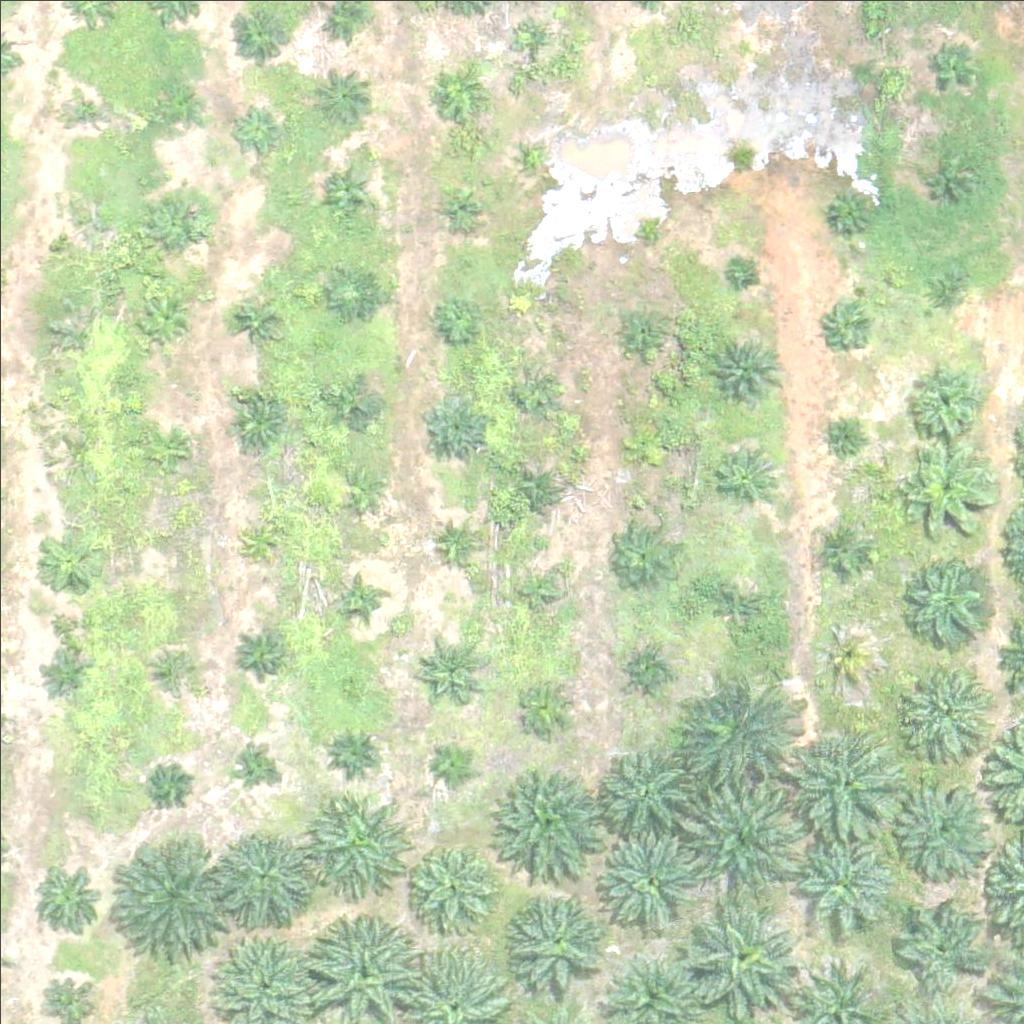Kelapa_Sawit: (680, 778, 805, 904), (672, 667, 797, 793), (102, 829, 227, 954), (493, 759, 606, 873), (784, 722, 897, 835), (593, 829, 705, 943), (683, 909, 795, 1023), (305, 778, 417, 891), (216, 829, 316, 930), (402, 835, 502, 936), (793, 833, 893, 934), (889, 887, 989, 988), (894, 778, 994, 879), (896, 443, 996, 544), (509, 891, 609, 991), (895, 661, 983, 750), (901, 355, 989, 443), (599, 744, 687, 832), (902, 566, 989, 654), (708, 331, 783, 407), (28, 863, 103, 938), (307, 63, 370, 126), (422, 630, 485, 693), (516, 676, 579, 739), (149, 192, 212, 255), (420, 394, 483, 457), (505, 559, 568, 622), (613, 521, 675, 584), (713, 442, 775, 505), (226, 390, 288, 453), (132, 289, 194, 352), (36, 529, 98, 592), (709, 572, 771, 635), (326, 267, 376, 318), (328, 385, 378, 436), (508, 463, 558, 514), (39, 970, 89, 1021), (432, 520, 482, 571), (507, 369, 557, 420), (628, 642, 678, 693), (619, 423, 669, 474), (431, 296, 481, 347), (233, 296, 283, 347), (59, 81, 109, 132), (147, 83, 197, 134), (229, 106, 279, 157), (321, 164, 371, 215), (818, 526, 868, 576), (328, 728, 378, 778), (432, 63, 482, 113), (234, 630, 284, 680), (38, 651, 88, 701), (138, 426, 188, 476), (335, 466, 385, 516), (427, 733, 477, 783), (613, 303, 663, 353), (436, 180, 486, 230), (824, 297, 874, 347), (821, 183, 871, 233), (924, 44, 974, 94), (924, 151, 974, 201), (917, 265, 967, 315), (817, 626, 867, 676), (149, 770, 187, 808), (241, 524, 279, 562), (338, 579, 376, 617), (233, 744, 270, 782), (156, 646, 193, 684), (144, 517, 181, 555), (61, 219, 98, 257), (729, 258, 754, 284), (524, 148, 549, 173), (519, 20, 544, 45), (636, 221, 661, 246), (828, 423, 853, 448), (730, 32, 755, 57)
